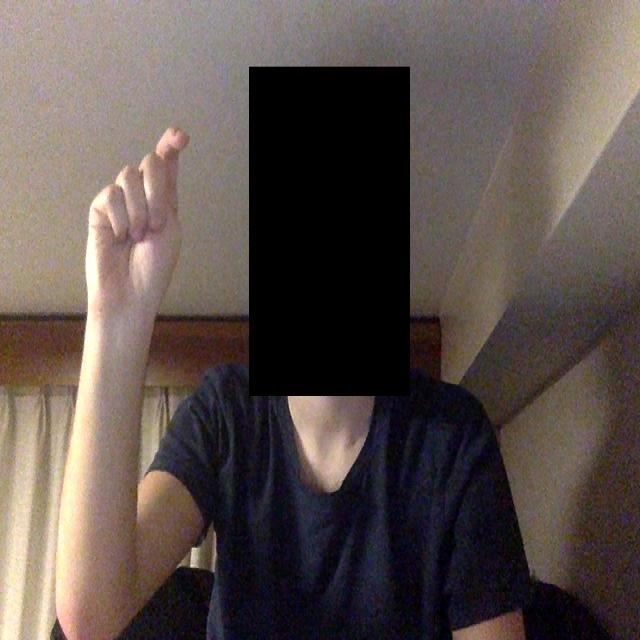X: (62, 100, 227, 354)
